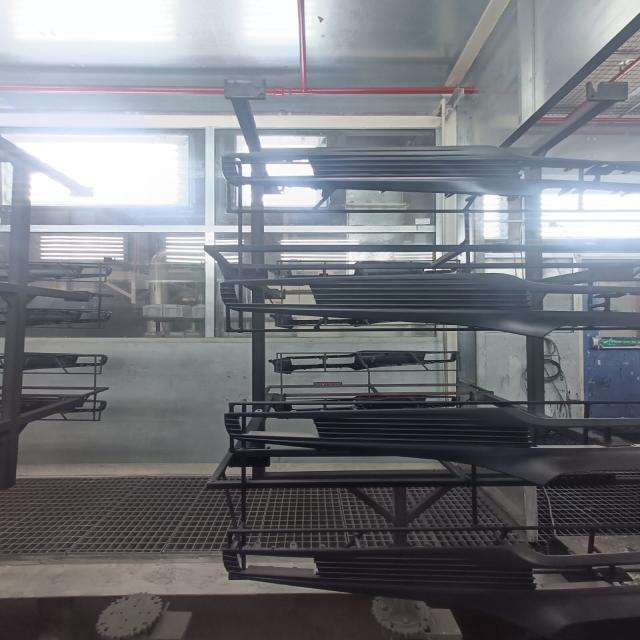Primered: (214, 542, 640, 639), (223, 406, 640, 492), (218, 269, 640, 343), (218, 145, 640, 204)
